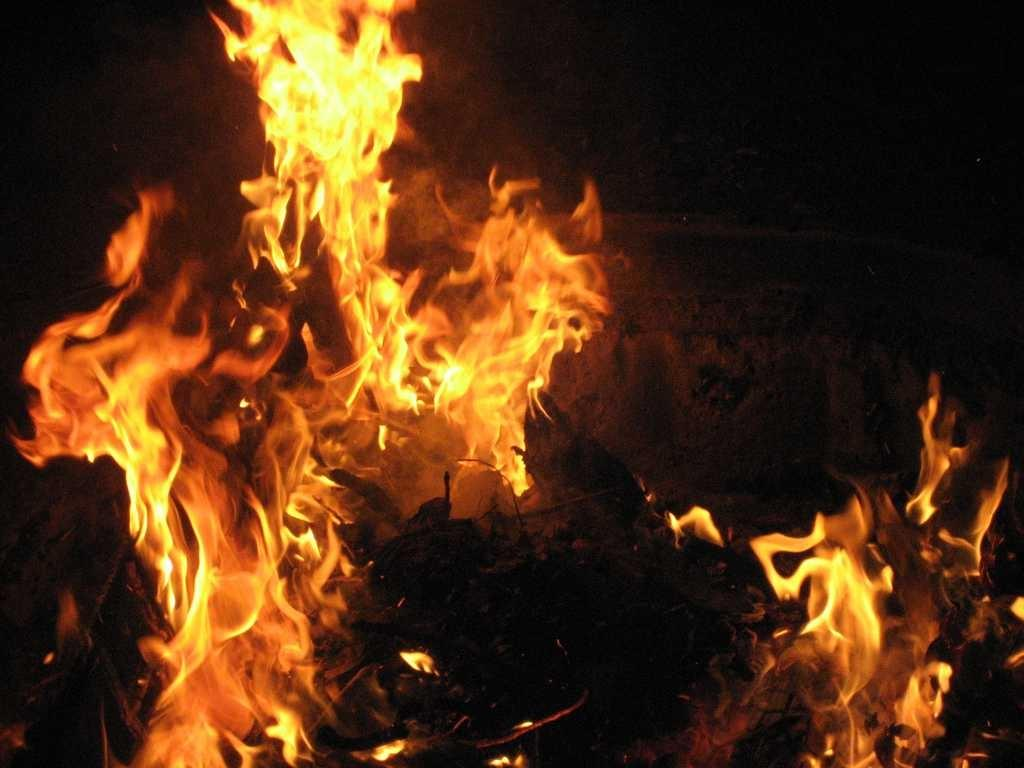fire: (154, 514, 276, 704), (372, 330, 530, 410), (48, 352, 158, 448), (304, 54, 376, 168)
